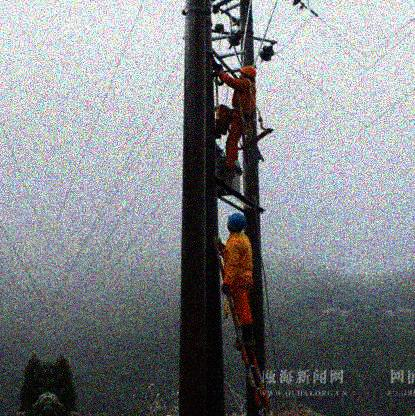helmet: (226, 212, 247, 237), (238, 65, 257, 83)
